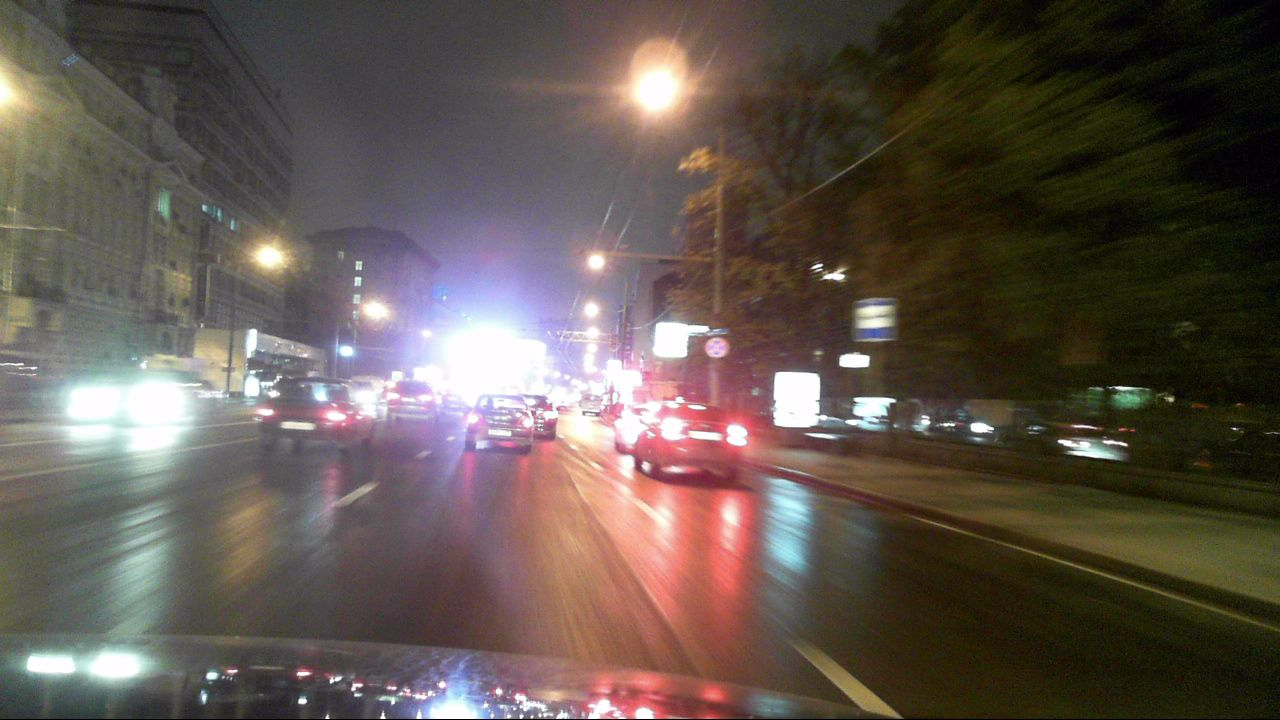No Parking: (704, 337, 728, 360)
